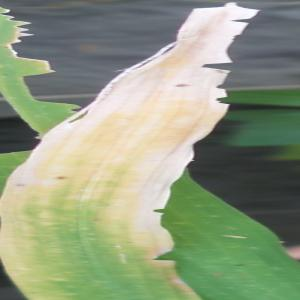Bacterial_Blight: (1, 99, 167, 300)
